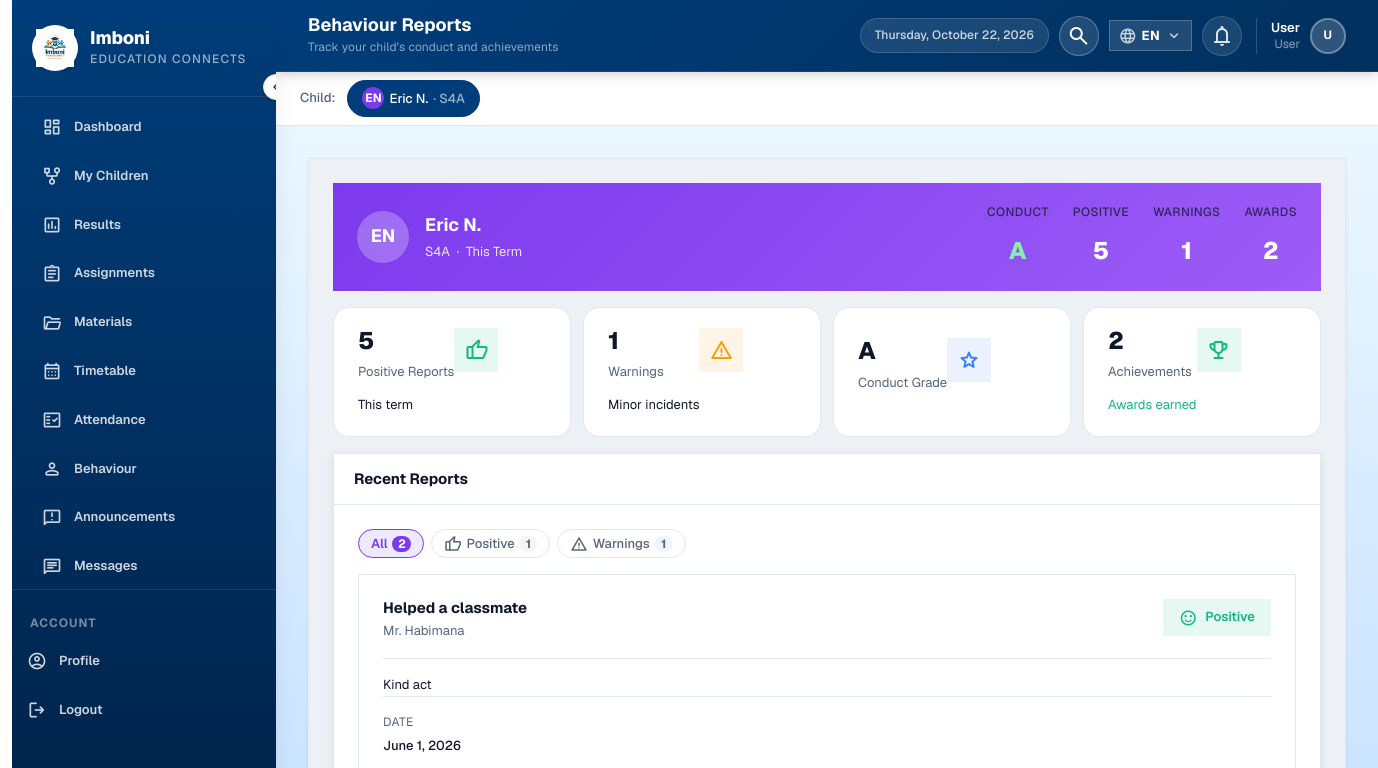
ParentBehaviour › filters reports by Positive / Warnings tabs
The image size is (1378, 768).
Check: the heading "Helped a classmate" is shown, box [383,599,527,617]
Click the button "Warnings 1": {"x": 621, "y": 544} [557,529,686,558]
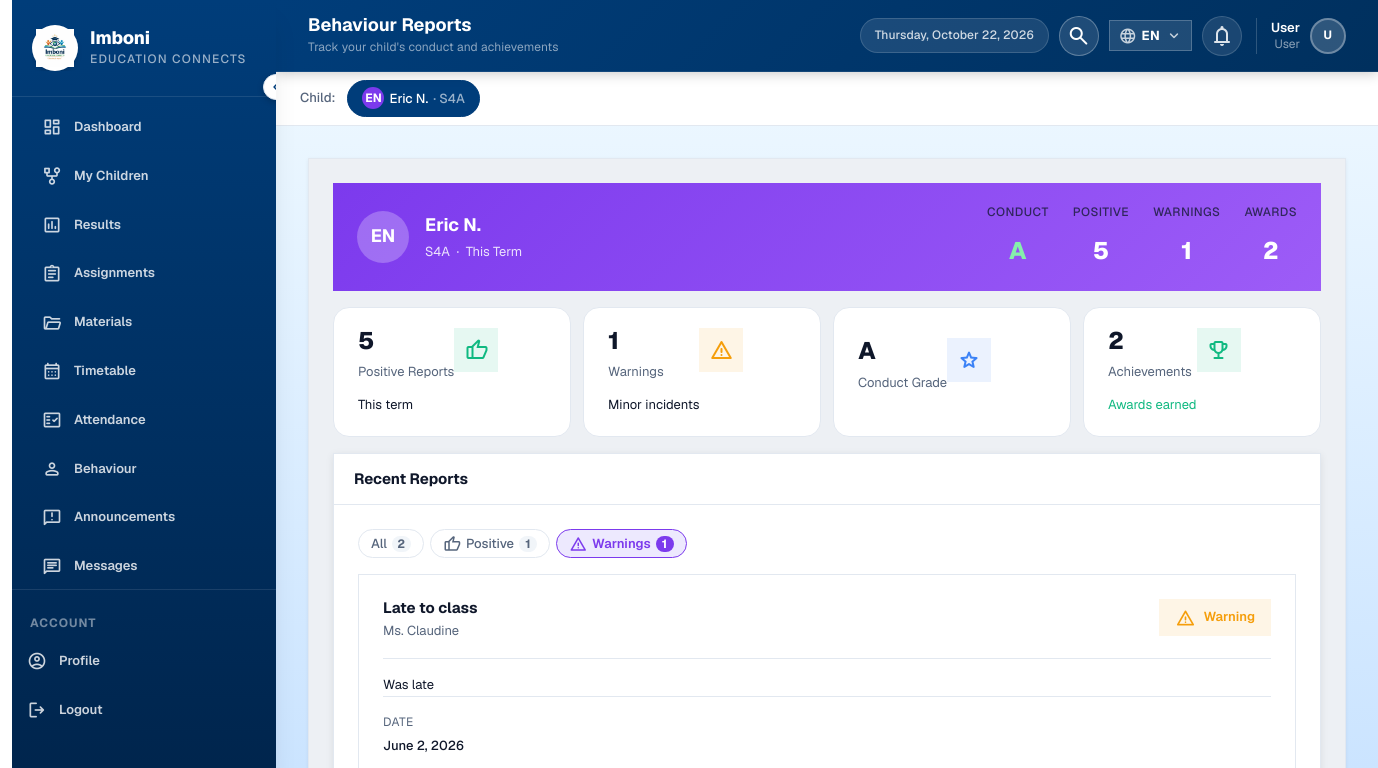
Check: the heading "Helped a classmate" is gone
Check: the heading "Late to class" is shown, box [383,599,478,617]
Click the button "Positive 1": {"x": 490, "y": 544} [430,529,550,558]
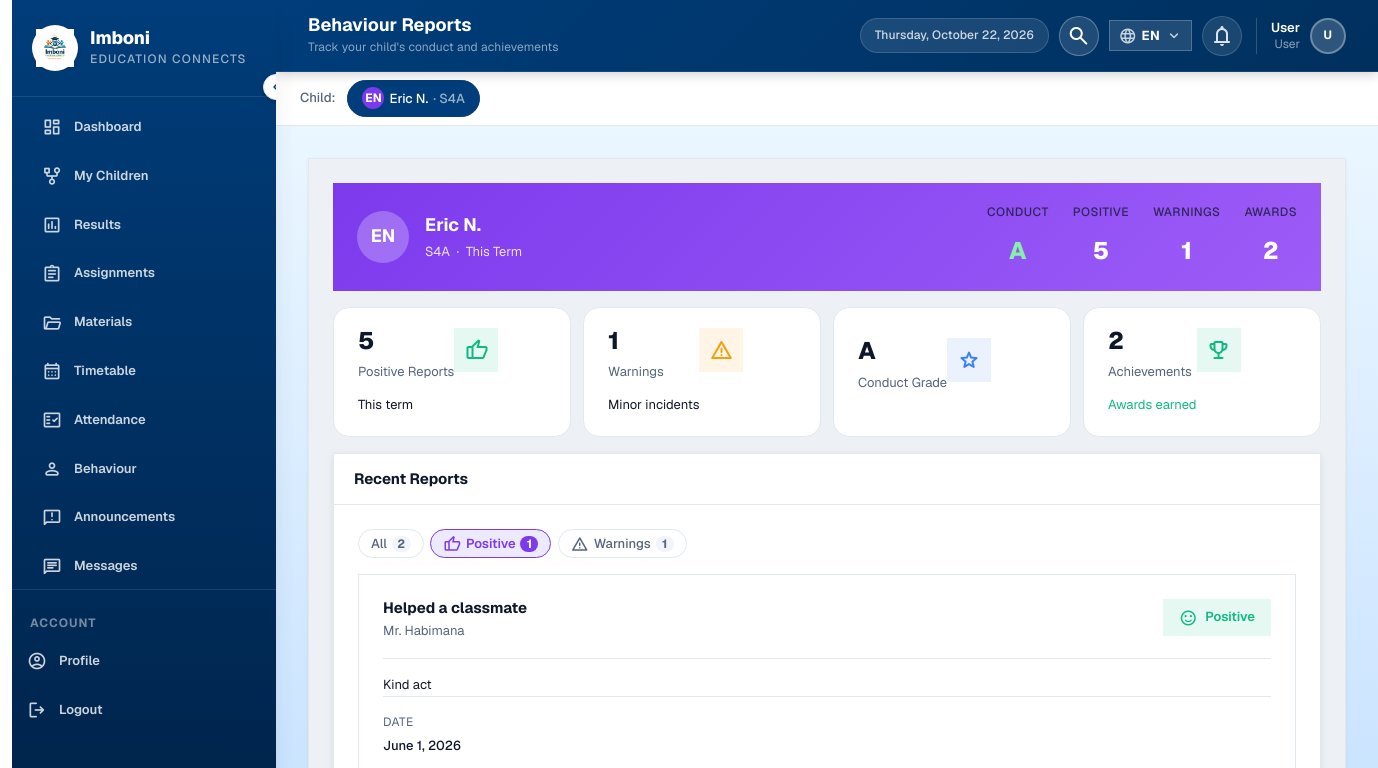
Check: the heading "Helped a classmate" is shown, box [383,599,527,617]
Check: the heading "Late to class" is gone
